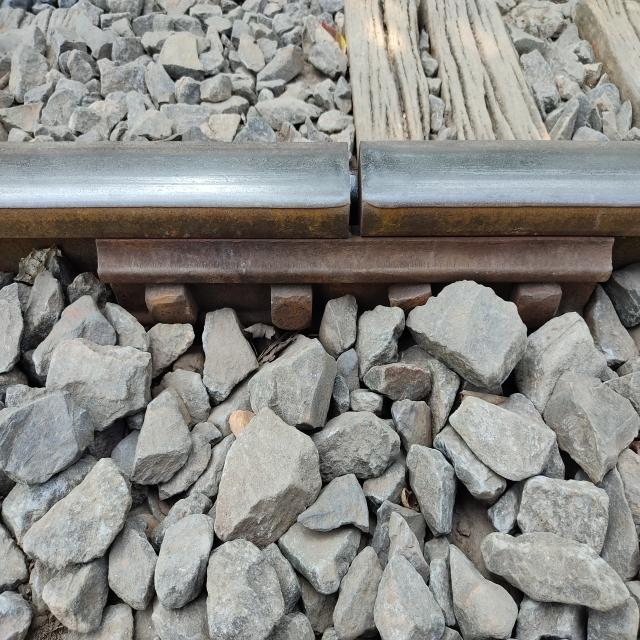Good Joint: (95, 236, 614, 330)
